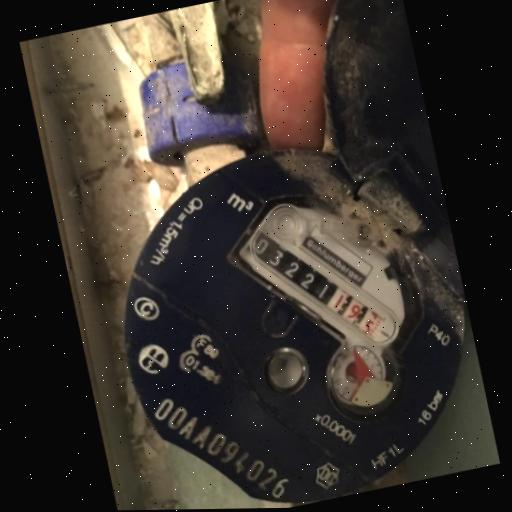0: (244, 229, 279, 262)
1: (307, 275, 329, 307), (323, 286, 344, 318)
2: (290, 261, 326, 297), (276, 253, 298, 285)
3: (259, 239, 295, 275)
5: (365, 304, 388, 339)
9: (337, 296, 359, 329)
border_water_meter_number: (234, 193, 413, 379)
